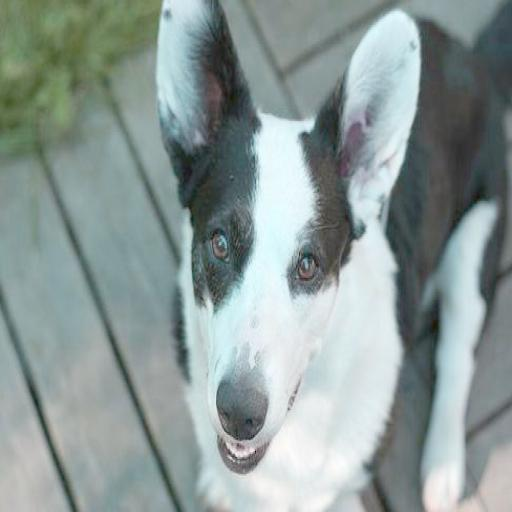dog_face: (154, 3, 417, 470)
